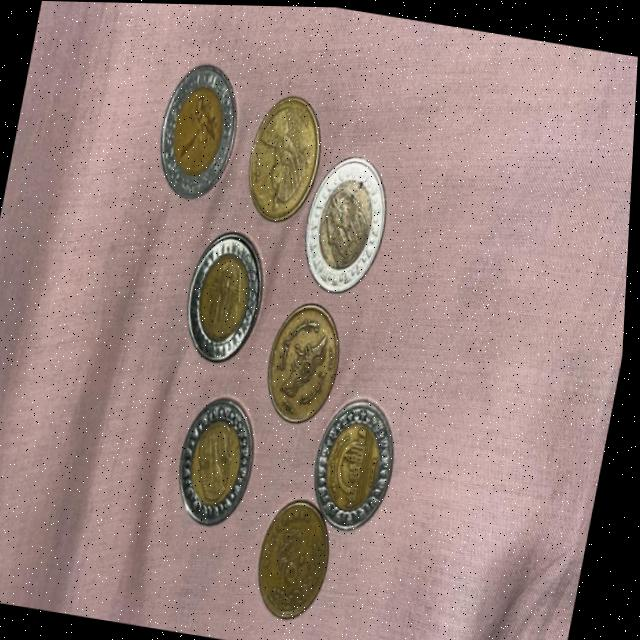Half Pound: (252, 287, 361, 435), (252, 485, 351, 636), (239, 85, 338, 235)
One Pound: (177, 221, 286, 381), (144, 51, 255, 208), (306, 389, 410, 546), (293, 159, 405, 294), (172, 387, 269, 535)
